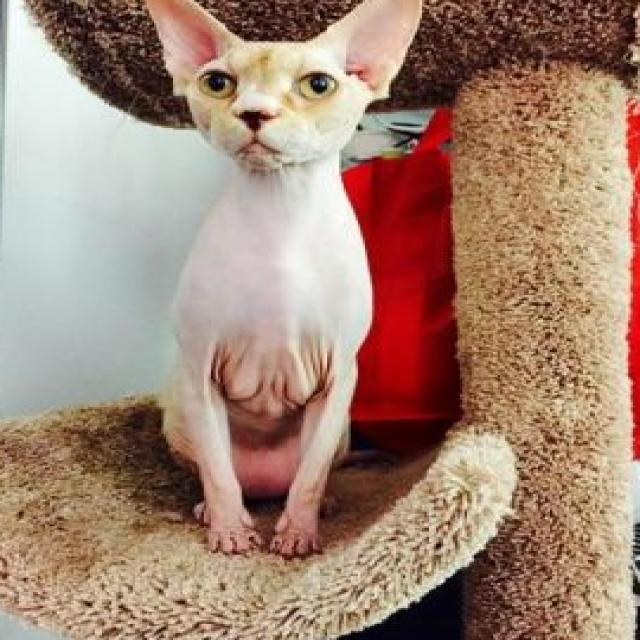Sphynx: (138, 0, 426, 562)
